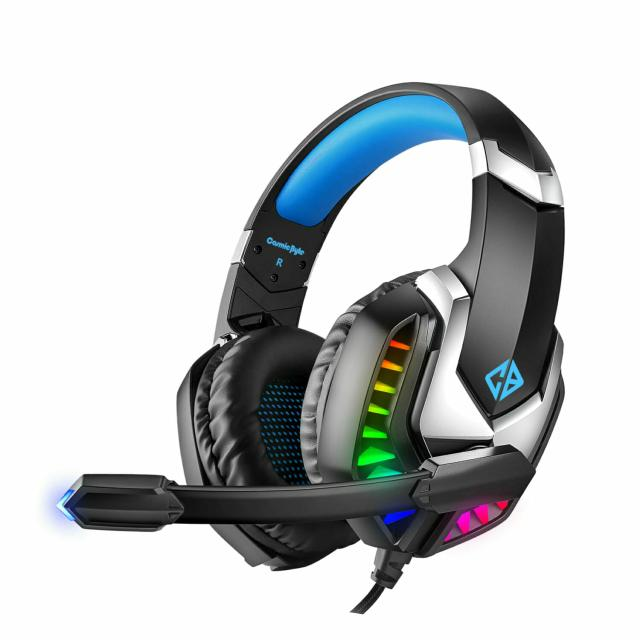headset: (211, 87, 558, 566)
